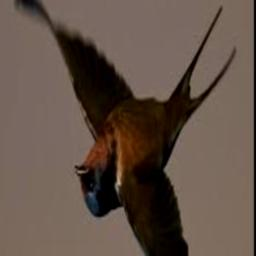Swallow: (11, 0, 236, 256)
